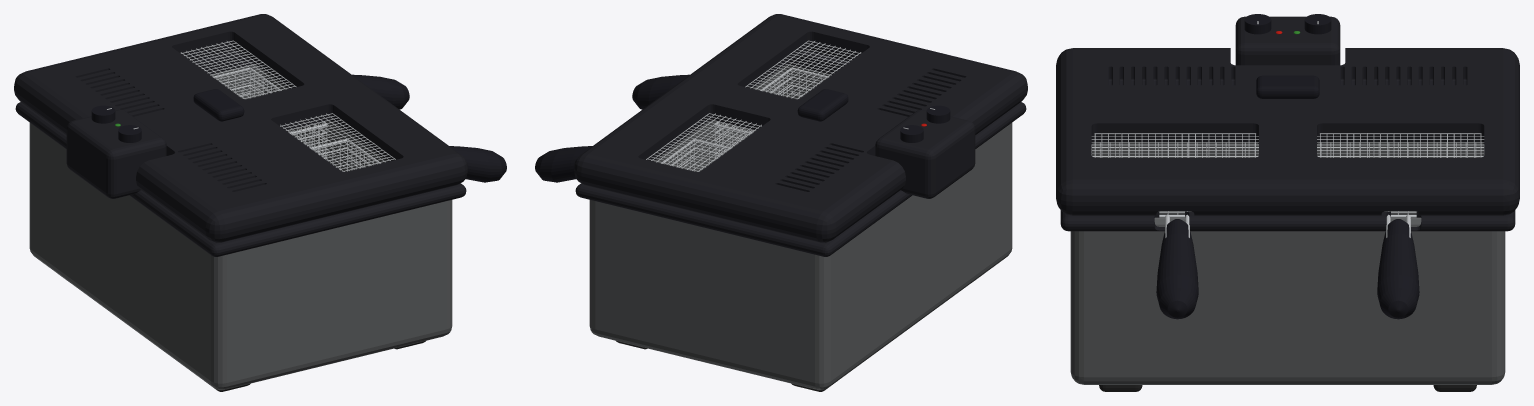
3 views of the same model, side by side, from view 1: azimuth 30°, elevation 25°; view 2: azimuth 150°, elevation 25°; view 3: azimuth 270°, elevation 25° (orthographic). The views are drawn at different scales.
Parts seen in each view (by area): view 1: visual_part_000_0_4, visual_part_001_0_2, visual_part_000_0_3, visual_part_001_0_0, visual_part_002_0_0, visual_part_001_0_1, visual_part_003_0_1, visual_part_003_0_0, visual_part_002_0_1; view 2: visual_part_000_0_4, visual_part_001_0_2, visual_part_000_0_3, visual_part_001_0_0, visual_part_003_0_0, visual_part_001_0_1, visual_part_002_0_1, visual_part_002_0_0, visual_part_003_0_1; view 3: visual_part_001_0_2, visual_part_000_0_4, visual_part_000_0_3, visual_part_001_0_0, visual_part_002_0_0, visual_part_003_0_0, visual_part_001_0_1, visual_part_002_0_1, visual_part_003_0_1, visual_part_000_0_2, visual_part_004_0_1, visual_part_005_0_1.
Part boxes in pixels (x1,y1,x2,y2): visual_part_000_0_4: (29, 63, 452, 390); visual_part_001_0_2: (14, 14, 467, 242); visual_part_000_0_3: (15, 50, 466, 256); visual_part_001_0_0: (180, 40, 395, 171); visual_part_002_0_0: (449, 146, 506, 182); visual_part_001_0_1: (193, 89, 244, 121); visual_part_003_0_1: (212, 67, 327, 160); visual_part_003_0_0: (352, 74, 409, 109); visual_part_002_0_1: (310, 139, 379, 171); visual_part_000_0_4: (589, 63, 1012, 390); visual_part_001_0_2: (574, 14, 1027, 242); visual_part_000_0_3: (575, 50, 1026, 256); visual_part_001_0_0: (646, 40, 861, 171); visual_part_003_0_0: (535, 146, 592, 182); visual_part_001_0_1: (797, 89, 848, 121); visual_part_002_0_1: (714, 67, 829, 160); visual_part_002_0_0: (632, 74, 689, 109); visual_part_003_0_1: (662, 139, 731, 171); visual_part_001_0_2: (1056, 48, 1519, 215); visual_part_000_0_4: (1070, 142, 1505, 384); visual_part_000_0_3: (1060, 16, 1515, 231); visual_part_001_0_0: (1091, 133, 1484, 157); visual_part_002_0_0: (1156, 219, 1198, 319); visual_part_003_0_0: (1377, 219, 1419, 319); visual_part_001_0_1: (1256, 75, 1319, 98); visual_part_002_0_1: (1091, 142, 1258, 237); visual_part_003_0_1: (1317, 142, 1484, 237); visual_part_000_0_2: (1099, 385, 1476, 391); visual_part_004_0_1: (1244, 14, 1271, 34); visual_part_005_0_1: (1304, 14, 1331, 34).
Bounding box in the file's own units: 0.434 × 0.2455 × 0.416.
Materials: 8 (1 with a texture image).
